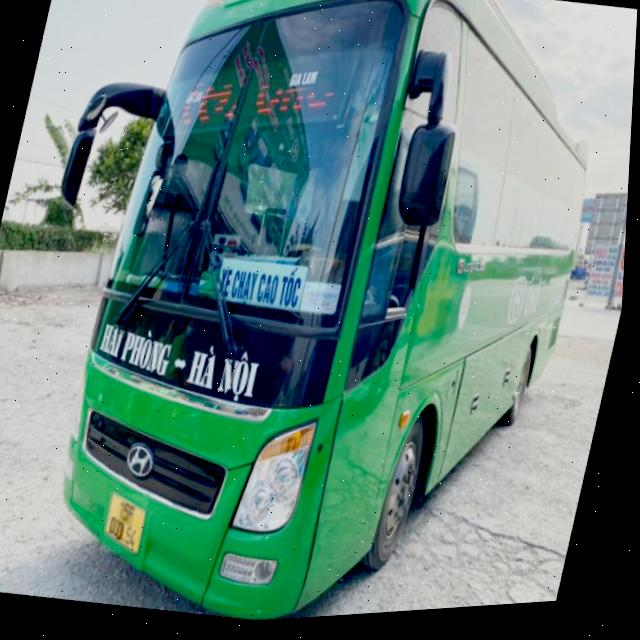car: (3, 0, 636, 638)
plate: (92, 489, 156, 563)
